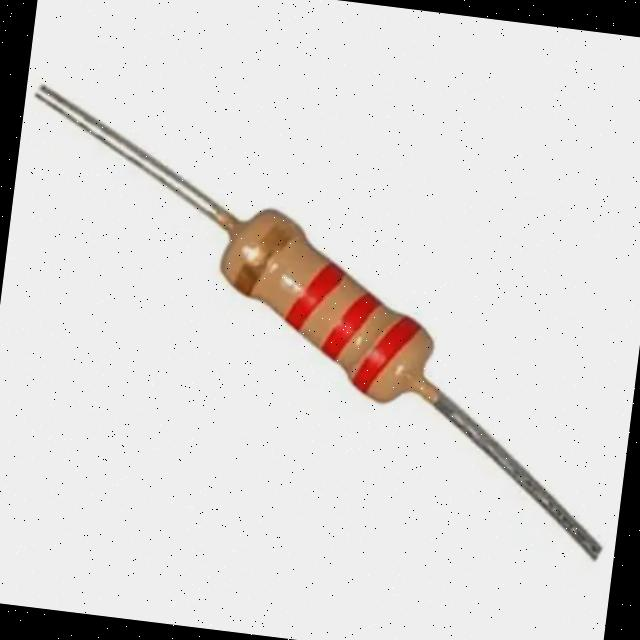gold: (225, 206, 316, 310)
red: (336, 298, 436, 407), (308, 274, 398, 369), (272, 247, 354, 338)
resistor: (168, 162, 474, 451)
